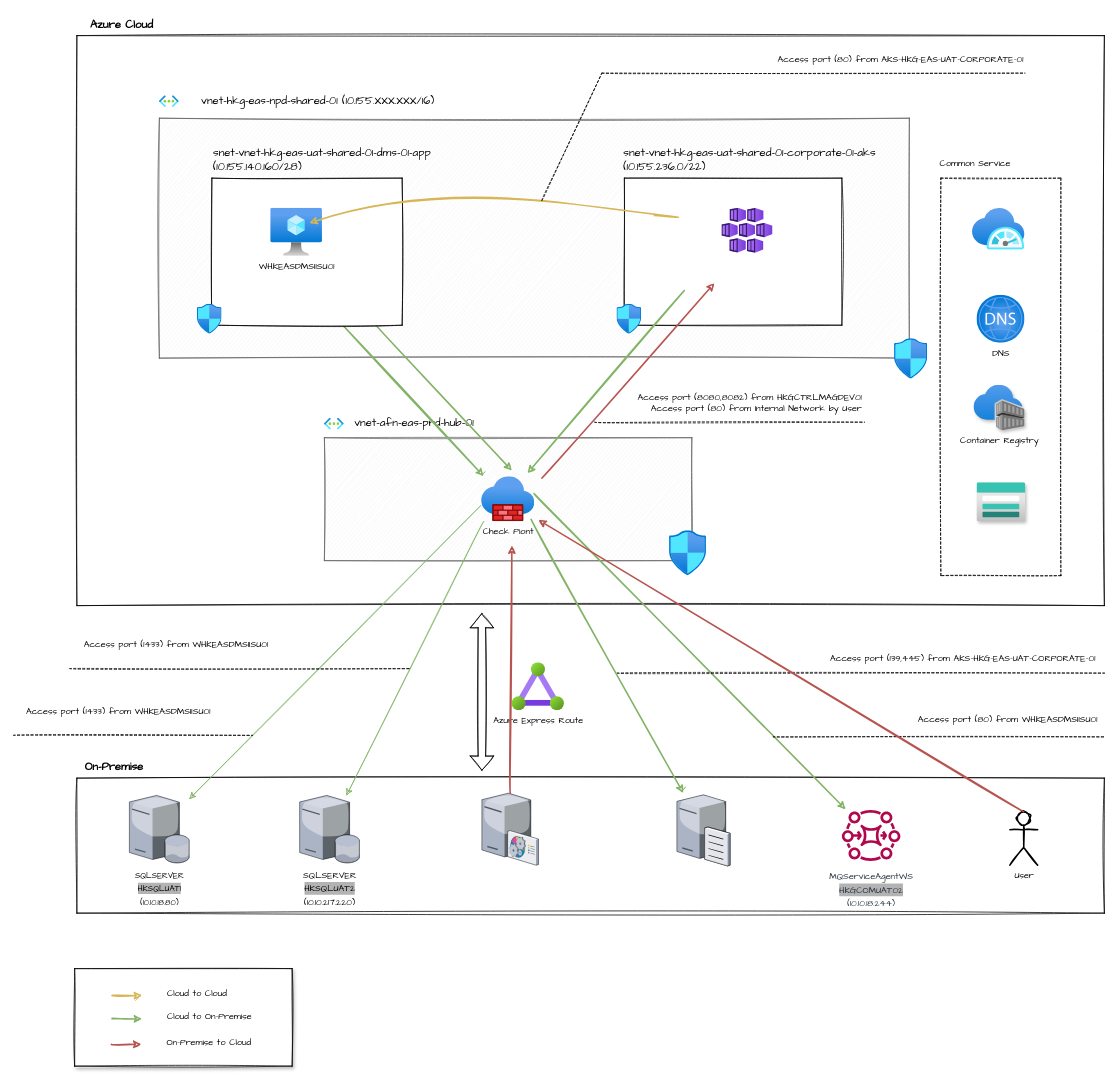
Image size: 1118x1085. Some labels were removed from this diagram. The centre of each missing label's shape, as x and y in pixels:
AKS-HKG-EAS-UAT-CORPORATE-01: the point at 747,230
Control-M HKGCTRLMAGDEV01 (10.10.18.128): the point at 510,829
Monitor: the point at 998,229
SMB Mounting Folder \\eaant2\UatApps\AIDS (10.10.1.12): the point at 703,829
Storage Account: the point at 1002,502
